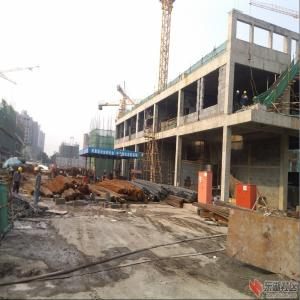white: (237, 91, 240, 96)
yellow: (35, 168, 40, 175), (19, 167, 23, 174), (244, 91, 247, 97)
